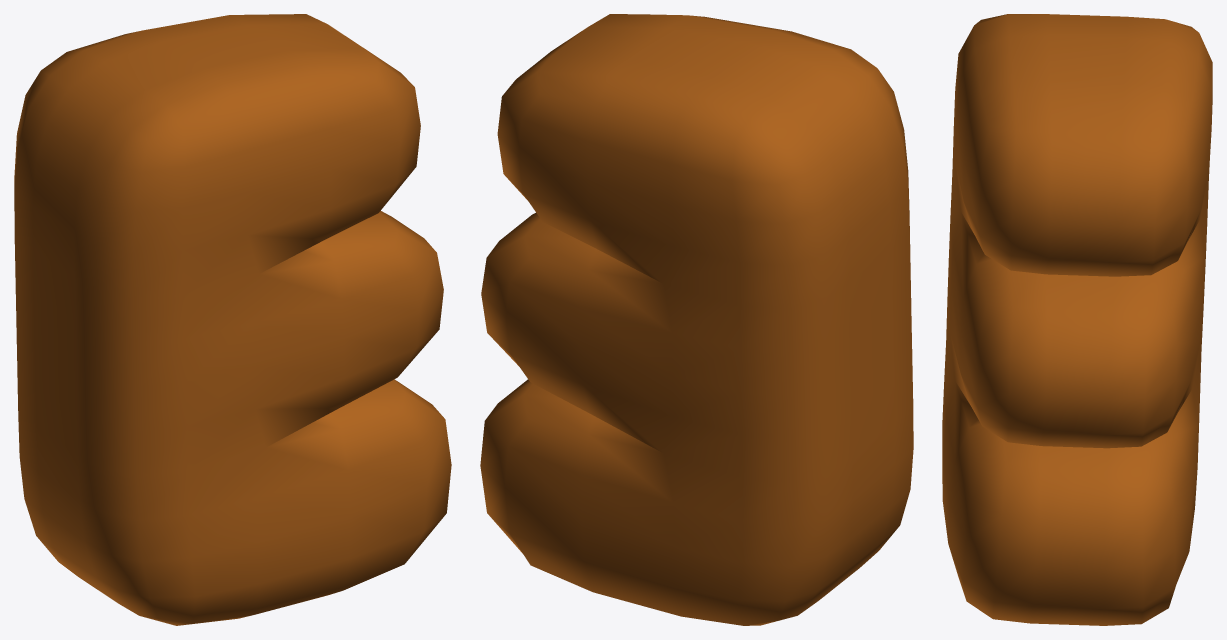
3 views of the same model, side by side, from view 1: azimuth 30°, elevation 25°; view 2: azimuth 150°, elevation 25°; view 3: azimuth 270°, elevation 25° (orthographic). The views are drawn at different scales.
Visible parts, largest first — view 1: E_3; view 2: E_3; view 3: E_3.
Boxes of the visible parts, x1,y1,x2,y2 form: E_3: (14, 14, 451, 625); E_3: (480, 14, 913, 625); E_3: (942, 14, 1212, 625).
Bounding box in the file's own units: 0.6811 × 0.9622 × 0.4538.
